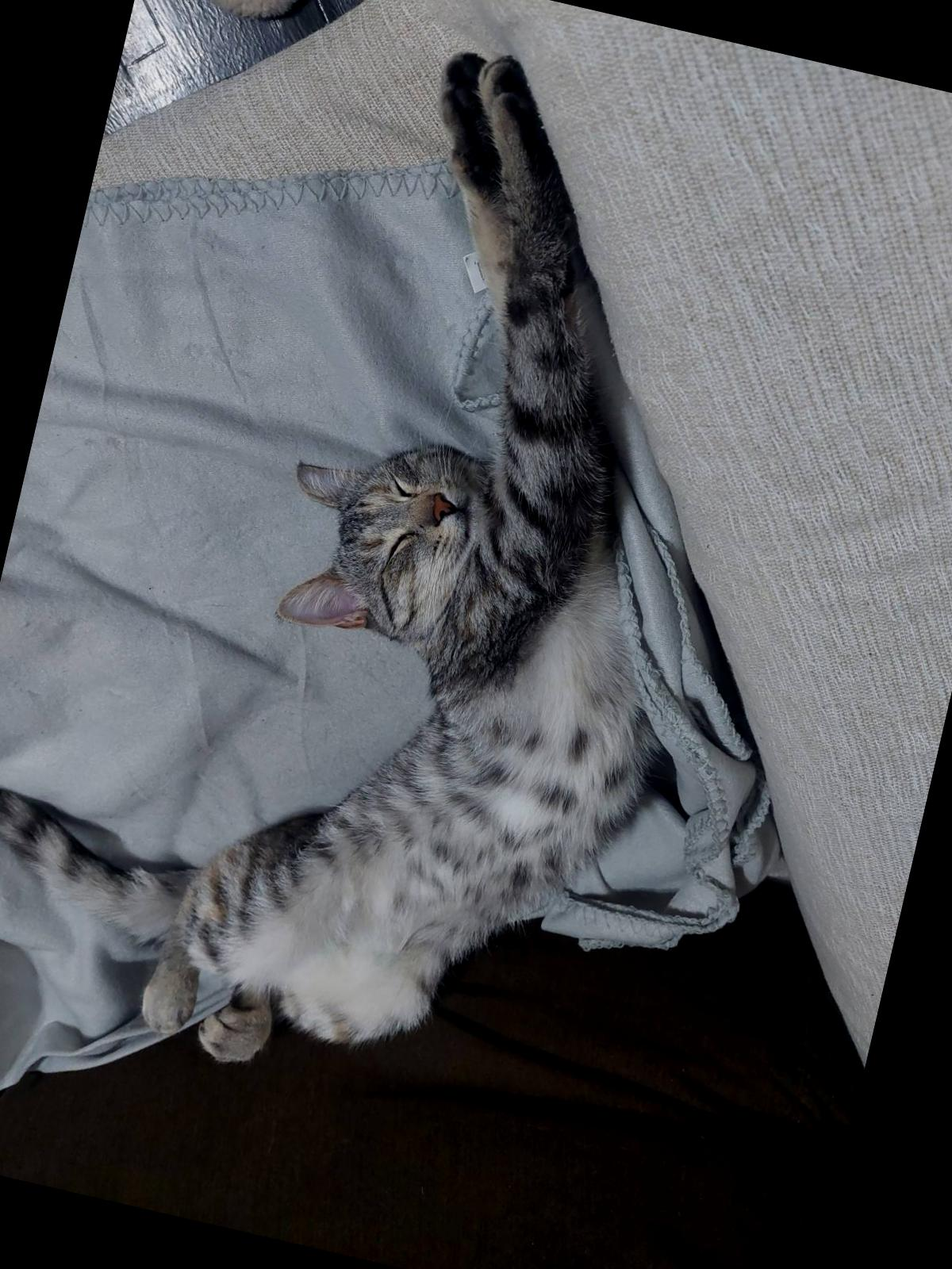macka: (0, 0, 792, 1148)
